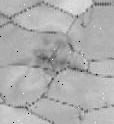good_void: (36, 52, 69, 71)
